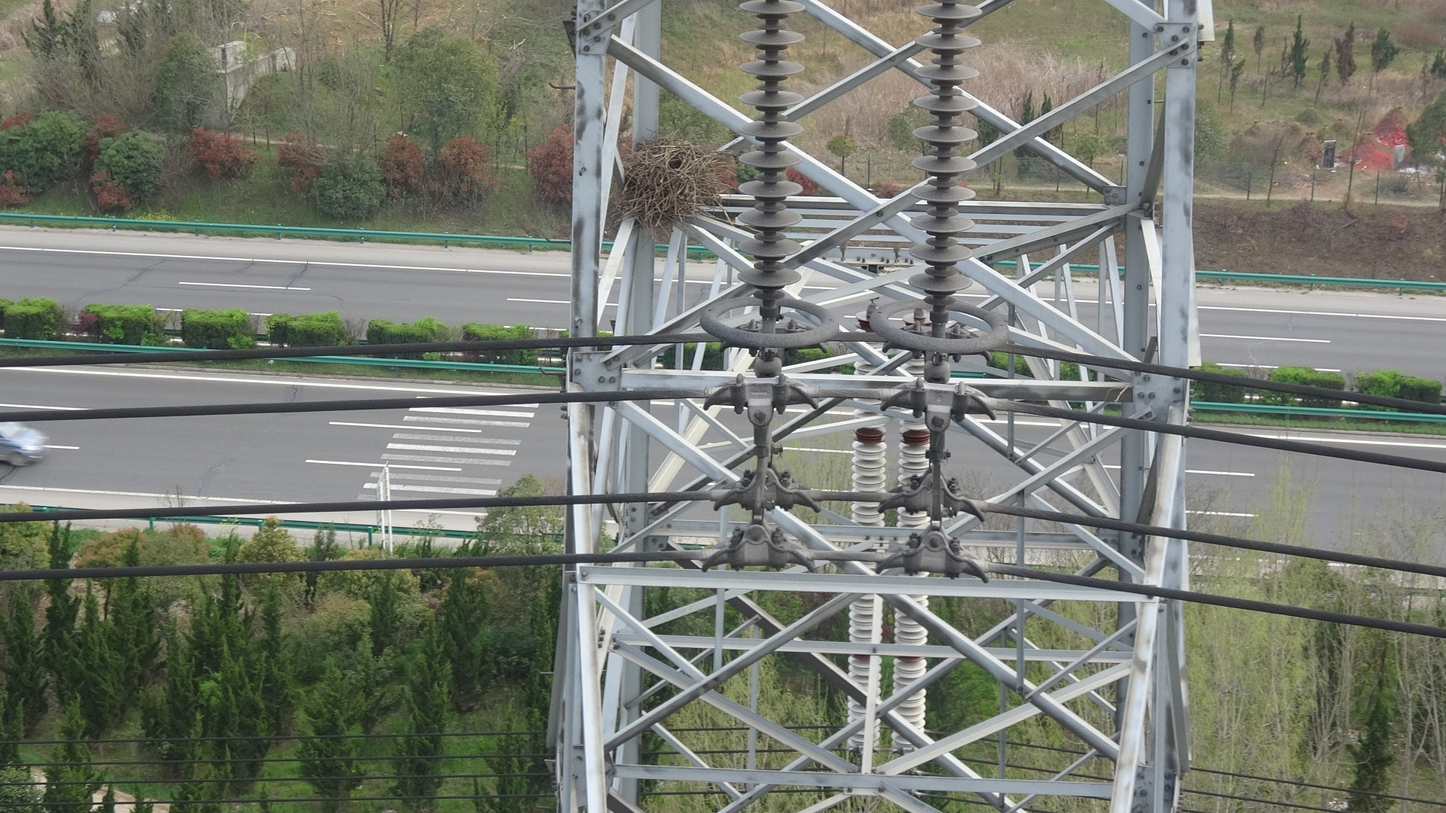insulator: (904, 1, 987, 303), (734, 1, 810, 299), (840, 355, 892, 754), (885, 566, 934, 754), (892, 408, 934, 529)
